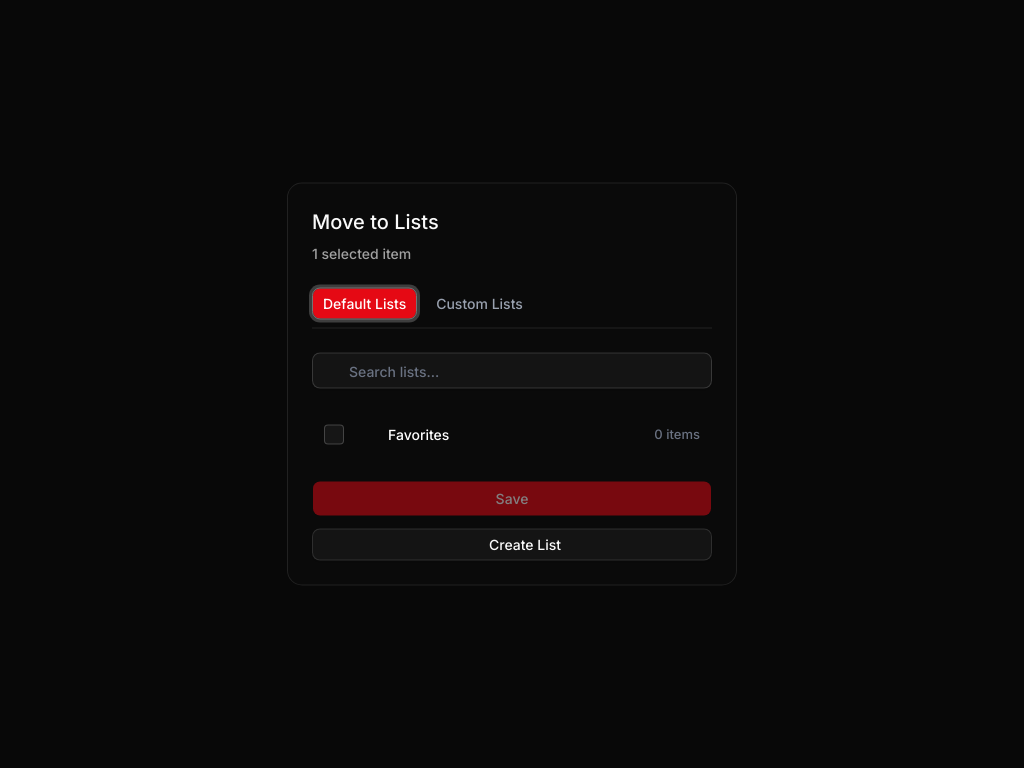
it: AddToListModal › keeps the bulk modal open and shows an inline error after a partial failure
Click the text "Favorites": (419, 434) [388,426,449,442]
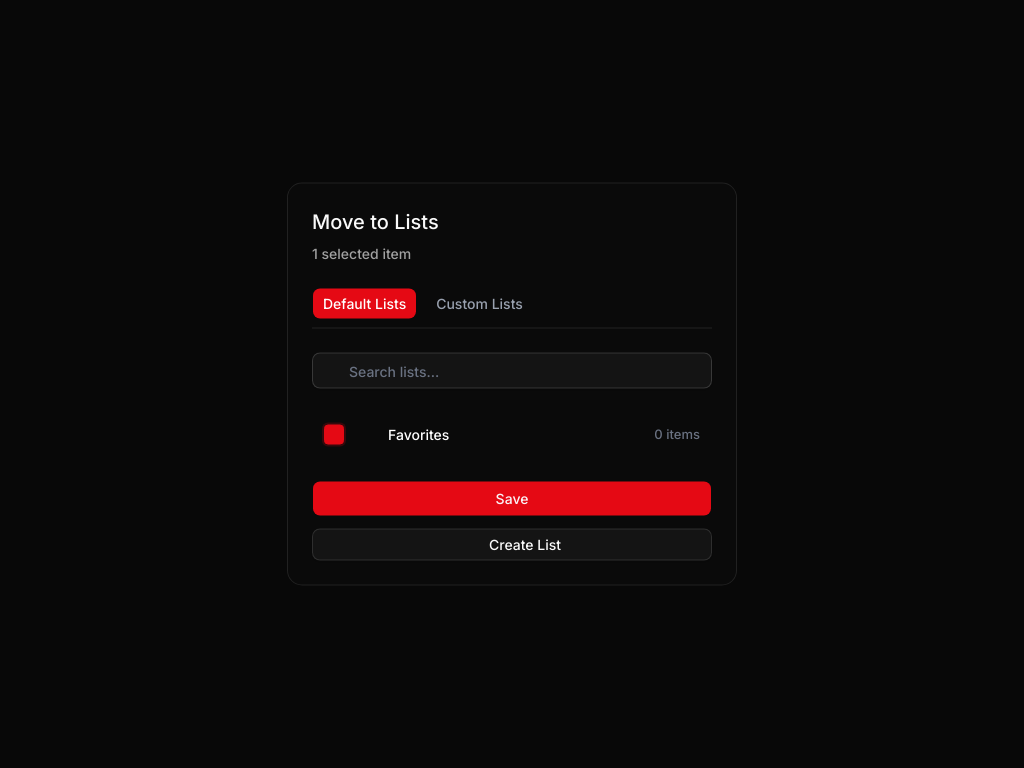
Click the button "Save": (512, 498) [312,480,712,516]
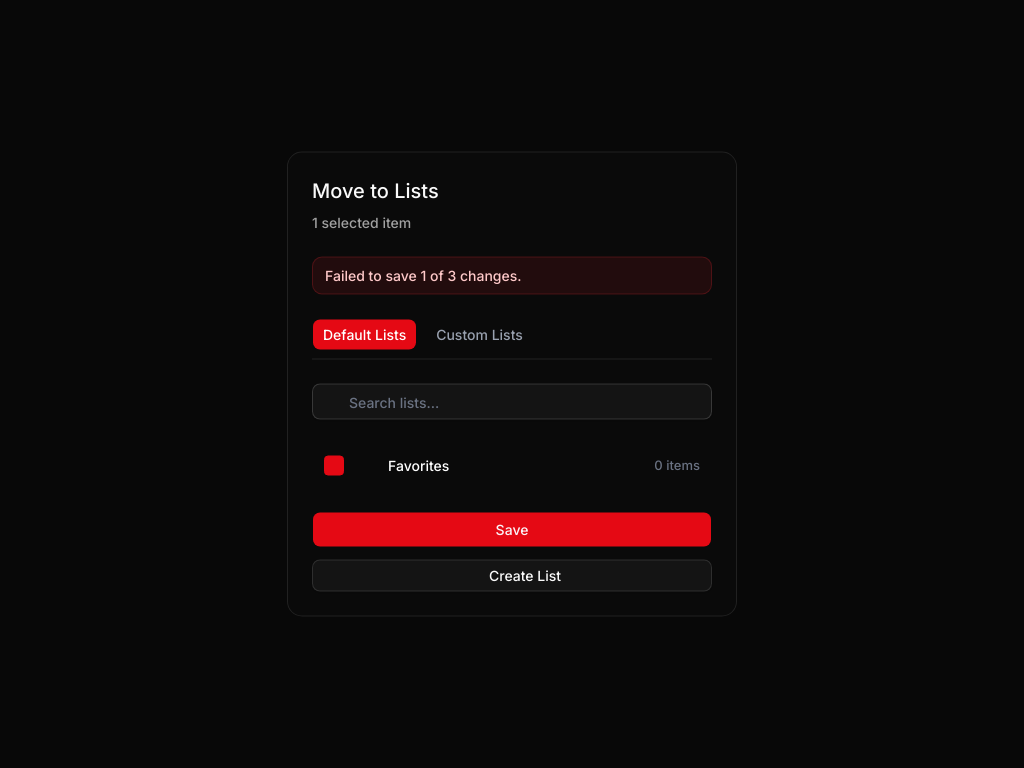
Expected: the heading "Move to Lists" is shown, [312,178,439,202]
Expected: the text "Failed to save 1 of 3 changes." is shown, [312,256,712,294]
